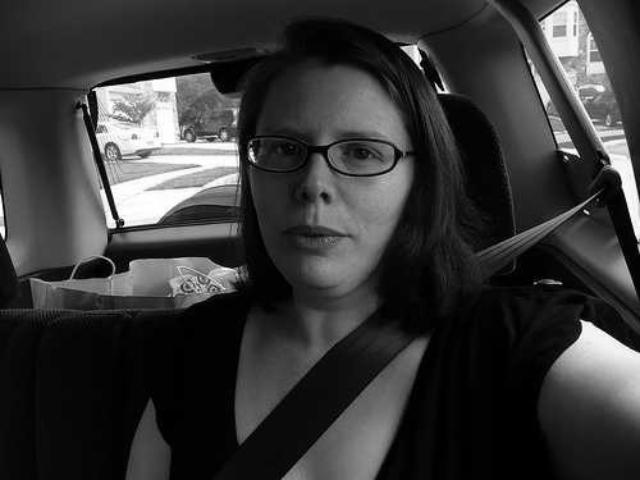SafeDriving: (329, 136, 386, 169), (262, 134, 308, 164)
Seatbelt: (236, 190, 598, 480)
